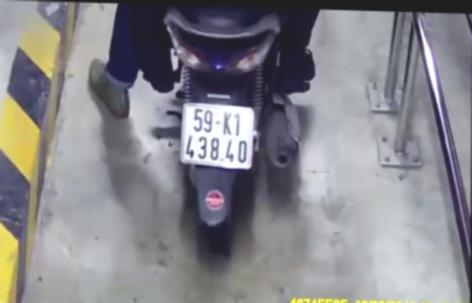License_Plate: (171, 99, 260, 176)
